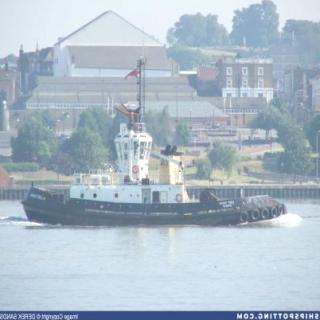Tug Boat: (31, 94, 293, 224)
